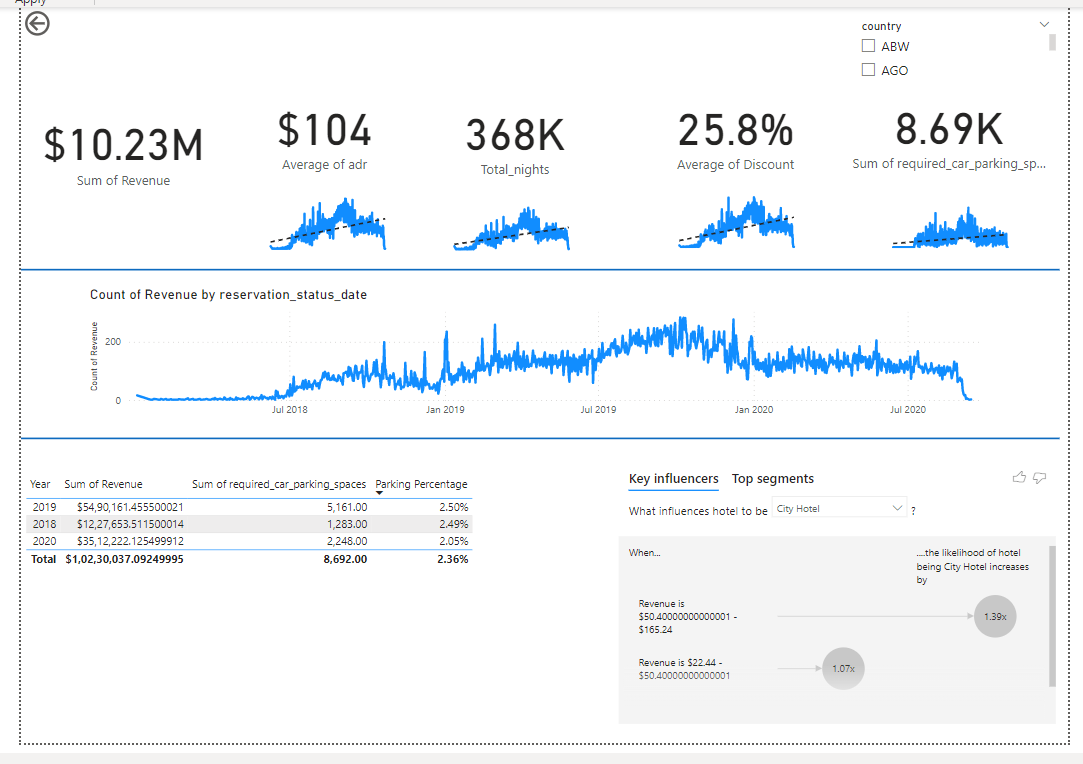

Layout of this report page (visuals, bound fields, positions):
{"tool":"powerbi","page":{"name":"Hotel Revenue","canvas":[1280,900],"ordinal":0},"visuals":[{"type":"shape","box":[0,265.9,1269.8,110],"z":0},{"type":"shape","box":[0,472.2,1269.8,110],"z":1000},{"type":"card","fields":{"Values":["Avg(Query1.adr)"]},"box":[283.3,91.2,176.8,122.6],"z":2000},{"type":"card","fields":{"Values":["Sum(Query1.Revenue)"]},"box":[0,69.9,250.9,203.9],"z":3000},{"type":"card","fields":{"Values":["Query1.Total_nights"]},"box":[502.8,102.7,202.5,114.1],"z":4000},{"type":"card","fields":{"Values":["Avg(Query1.Discount)"]},"box":[749.5,89.8,249.5,126.9],"z":5000},{"type":"actionButton","box":[0,0,100,40],"z":6000},{"type":"lineChart","fields":{"Category":["Query1.reservation_status_date"],"Y":["CountNonNull(Query1.Revenue)"]},"box":[79.5,340.7,1109.3,169.6],"z":7000},{"type":"slicer","fields":{"Values":["Query1.country"]},"box":[1015.1,8.6,255.2,82.7],"z":8000},{"type":"lineChart","fields":{"Category":["Query1.reservation_status_date"],"Y":["CountNonNull(Query1.adr)"]},"box":[290.9,216.7,169.7,85],"z":10000},{"type":"lineChart","fields":{"Category":["Query1.reservation_status_date"],"Y":["Query1.Total_nights"]},"box":[514.2,216.7,169.7,85.5],"z":11000},{"type":"lineChart","fields":{"Category":["Query1.reservation_status_date"],"Y":["Sum(Query1.Discount)"]},"box":[789.4,213.9,169.7,85.5],"z":12000},{"type":"card","fields":{"Values":["Sum(Query1.required_car_parking_spaces)"]},"box":[1009.4,88.4,249.5,126.9],"z":13000},{"type":"lineChart","fields":{"Category":["Query1.reservation_status_date"],"Y":["Sum(Query1.required_car_parking_spaces)"]},"box":[1050.7,213.9,169.7,85.5],"z":14000},{"type":"keyDriversVisual","fields":{"Target":["Query1.hotel"],"ExplainBy":["Query1.Revenue"]},"box":[725.8,551.6,544,330.1],"z":14001},{"type":"tableEx","fields":{"Values":["Query1.reservation_status_date.Variation.Date Hierarchy.Year","Query1.Revenue","Sum(Query1.required_car_parking_spaces)","Query1.Parking Percentage"]},"box":[0,566.9,725.8,299.5],"z":14002}]}

Visuals, with their boxes on the page's 1280x900 design canvas (x1, y1, x2, y2). These are canvas units, not pixel positions in the 1083x764 screenshot, which may show the page scaled, cropped or inside an application window:
shape: select_region(0, 266, 1270, 376)
shape: select_region(0, 472, 1270, 582)
card - Avg(Query1.adr): select_region(283, 91, 460, 214)
card - Sum(Query1.Revenue): select_region(0, 70, 251, 274)
card - Query1.Total_nights: select_region(503, 103, 705, 217)
card - Avg(Query1.Discount): select_region(750, 90, 999, 217)
actionButton: select_region(0, 0, 100, 40)
lineChart - Query1.reservation_status_date x CountNonNull(Query1.Revenue): select_region(80, 341, 1189, 510)
slicer - Query1.country: select_region(1015, 9, 1270, 91)
lineChart - Query1.reservation_status_date x CountNonNull(Query1.adr): select_region(291, 217, 461, 302)
lineChart - Query1.reservation_status_date x Query1.Total_nights: select_region(514, 217, 684, 302)
lineChart - Query1.reservation_status_date x Sum(Query1.Discount): select_region(789, 214, 959, 299)
card - Sum(Query1.required_car_parking_spaces): select_region(1009, 88, 1259, 215)
lineChart - Query1.reservation_status_date x Sum(Query1.required_car_parking_spaces): select_region(1051, 214, 1220, 299)
keyDriversVisual - Query1.hotel x Query1.Revenue: select_region(726, 552, 1270, 882)
tableEx - Query1.reservation_status_date.Variation.Date Hierarchy.Year x Query1.Revenue: select_region(0, 567, 726, 866)
